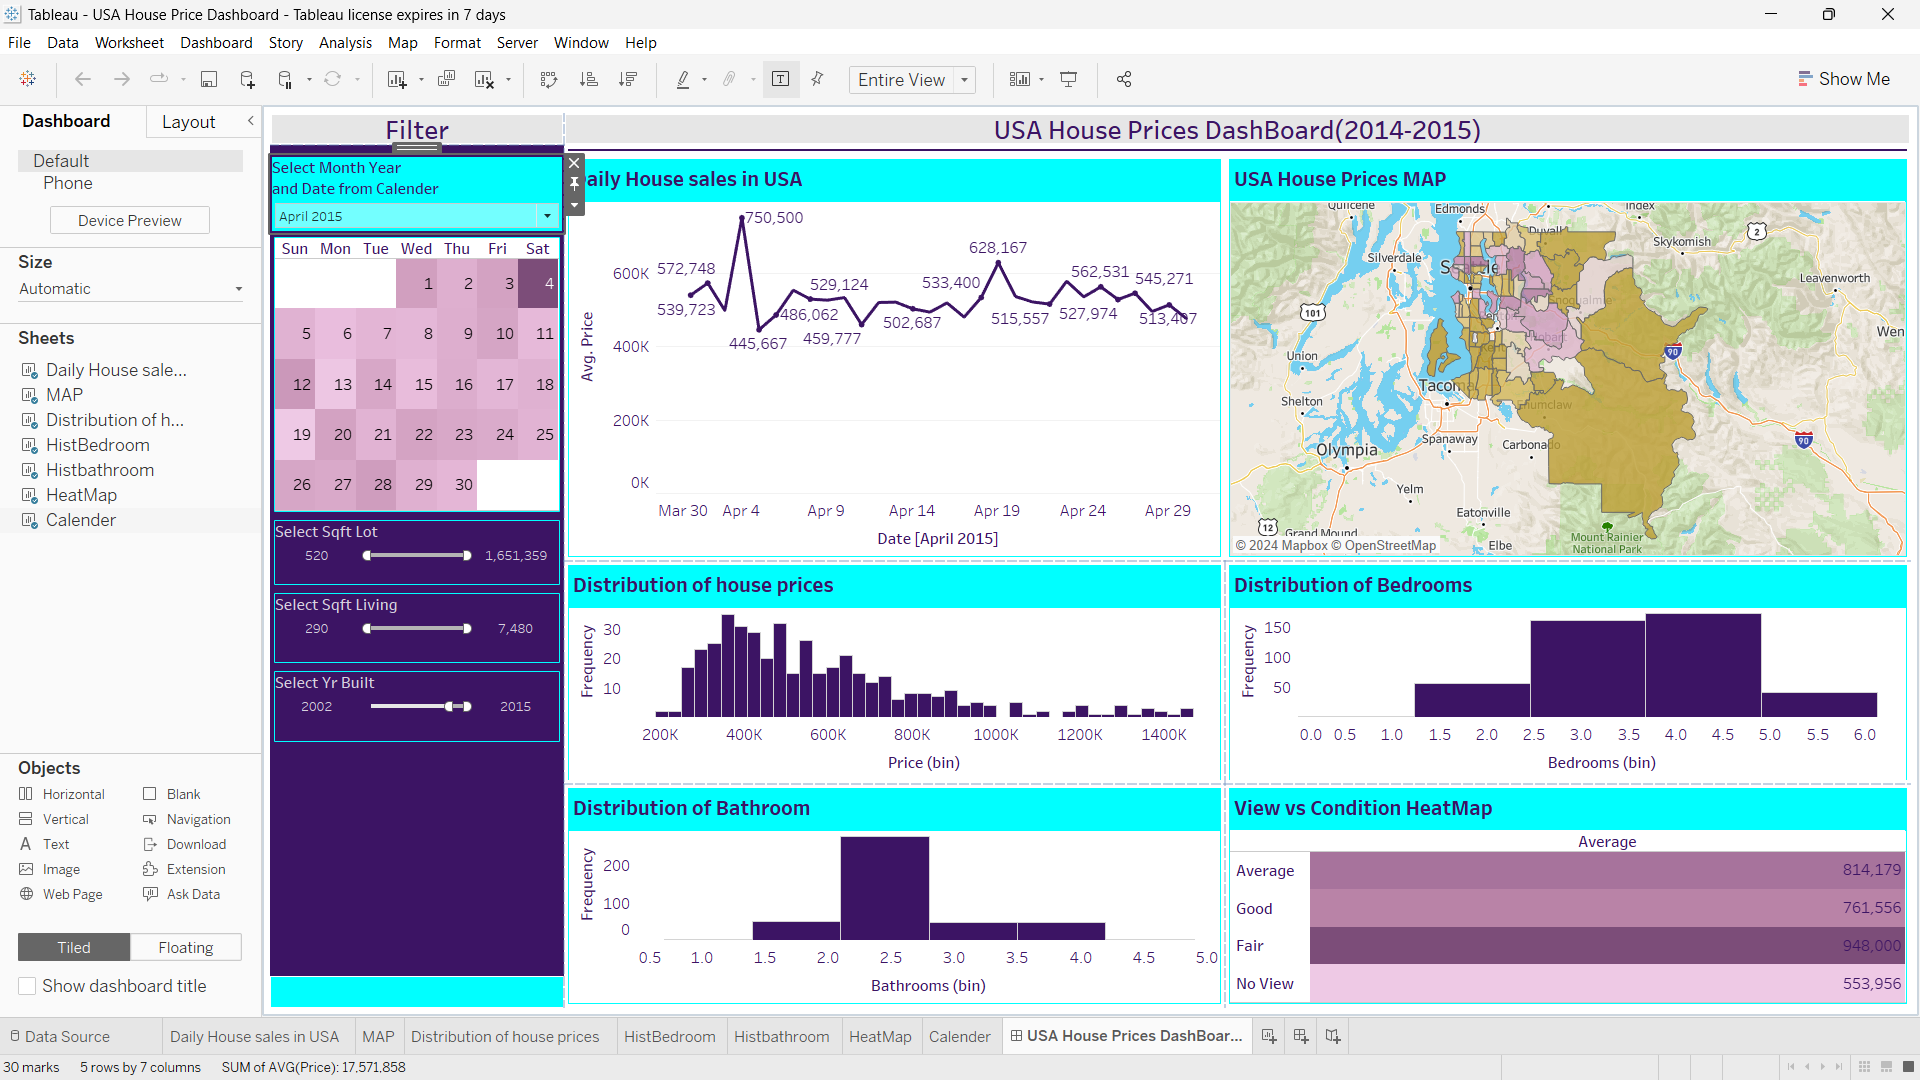

The dashboard page shown, as its layout file describes it:
{"tool":"tableau","page":{"name":"USA House Prices DashBoard(2014-2015)","canvas":[1000,1000],"units":"permille","ordinal":0},"visuals":[{"type":"text","box":[4.8,8.8,177.7,35.1]},{"type":"text","box":[182.5,8.8,812.6,35.1]},{"type":"blank","box":[4.8,43.9,177.7,11]},{"type":"blank","box":[182.5,43.9,812.6,11]},{"type":"filter","title":"Calender","param":"[federated.1j2gzuz0icfqxu1eo9k170cd22rm].[my:date:ok]","box":[4.8,54.9,177.7,85.6]},{"type":"worksheet","title":"Daily House sales in USA","mark":"Automatic","rows":["price"],"cols":["date"],"box":[182.5,54.9,398.9,445.1]},{"type":"worksheet","title":"MAP","mark":"Automatic","box":[581.4,54.9,413.8,445.1]},{"type":"worksheet","title":"Calender","mark":"Square","rows":["date"],"cols":["date"],"box":[4.8,140.5,177.7,310.7]},{"type":"filter","title":"Calender","param":"[federated.1j2gzuz0icfqxu1eo9k170cd22rm].[none:sqft_lot:qk]","box":[4.8,451.2,177.7,80.1]},{"type":"worksheet","title":"Distribution of house prices","mark":"Automatic","rows":["price"],"cols":["Price (bin)"],"box":[182.5,500,398.9,245.6]},{"type":"worksheet","title":"HistBedroom","mark":"Automatic","rows":["bedrooms"],"cols":["Bedrooms (bin)"],"box":[581.5,500,413.7,245.6]},{"type":"filter","title":"Calender","param":"[federated.1j2gzuz0icfqxu1eo9k170cd22rm].[none:sqft_living:qk]","box":[4.8,531.3,177.7,85.6]},{"type":"filter","title":"Calender","param":"[federated.1j2gzuz0icfqxu1eo9k170cd22rm].[none:yr_built:qk]","box":[4.8,616.9,177.7,86.7]},{"type":"worksheet","title":"Histbathroom","mark":"Automatic","rows":["bathrooms"],"cols":["Bathrooms (bin)"],"box":[182.5,745.6,398.9,245.6]},{"type":"worksheet","title":"HeatMap","mark":"Automatic","rows":["view"],"cols":["condition"],"box":[581.5,745.6,413.7,245.6]},{"type":"blank","box":[4.8,956.1,177.7,35.1]}]}

Visuals, with their boxes on the dashboard's canvas, which has no fixed pixel size, in thousandths of its width and height (x1, y1, x2, y2). These are canvas units, not pixel positions in the 1920x1080 screenshot, which may show the page scaled, cropped or inside an application window:
text: (5,9,182,44)
text: (182,9,995,44)
blank: (5,44,182,55)
blank: (182,44,995,55)
"Calender" filter: (5,55,182,140)
"Daily House sales in USA" worksheet: (182,55,581,500)
"MAP" worksheet: (581,55,995,500)
"Calender" worksheet (Square marks): (5,140,182,451)
"Calender" filter: (5,451,182,531)
"Distribution of house prices" worksheet: (182,500,581,746)
"HistBedroom" worksheet: (582,500,995,746)
"Calender" filter: (5,531,182,617)
"Calender" filter: (5,617,182,704)
"Histbathroom" worksheet: (182,746,581,991)
"HeatMap" worksheet: (582,746,995,991)
blank: (5,956,182,991)
